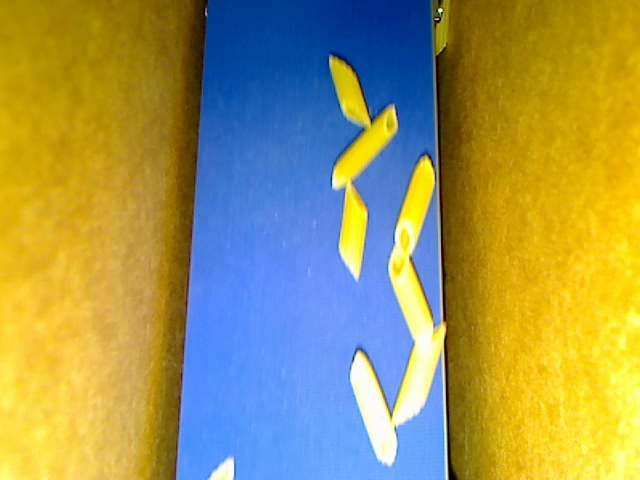penne: (386, 319, 450, 429), (329, 102, 401, 192), (348, 349, 398, 471), (384, 243, 435, 354), (394, 150, 439, 258), (328, 51, 370, 128), (340, 179, 366, 282), (434, 1, 450, 59), (210, 454, 238, 479)
